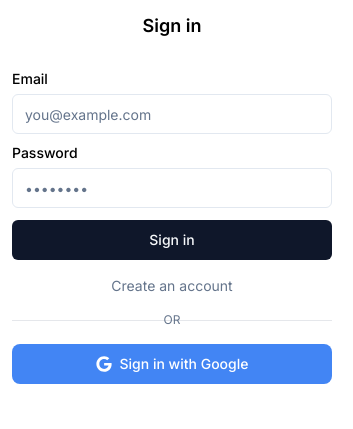
Test: Signin › should show validation error when email is invalid
Type "not-an-email" into the field labelled "Email" at [172, 114], box [12,94,332,134]
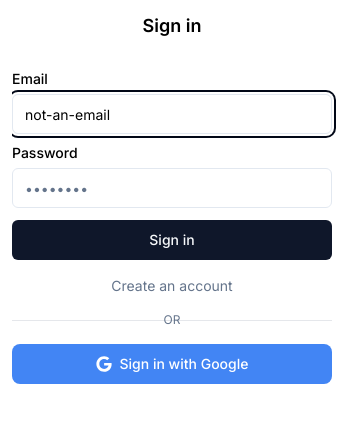
Type "password123" into the password field labelled "Password" at [172, 188], box [12,168,332,208]
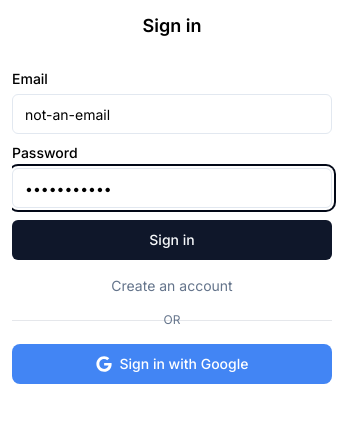
Submit the form with test id "signin-form", box [12,72,332,260]
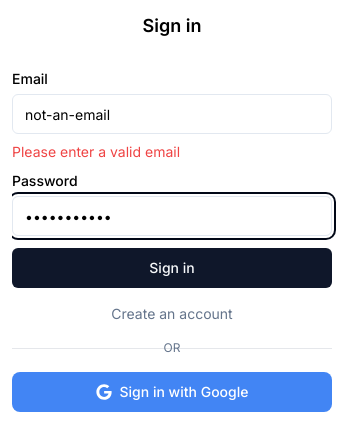
Check: the text "Please enter a valid email" is shown, box [12,143,180,160]
